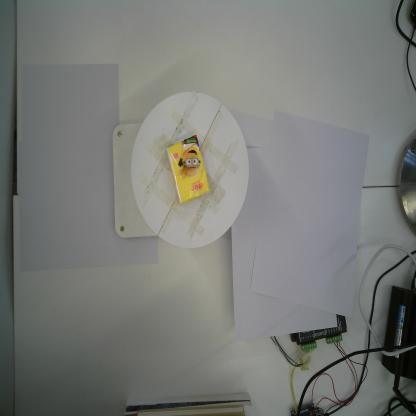Tissue: (166, 134, 210, 205)
